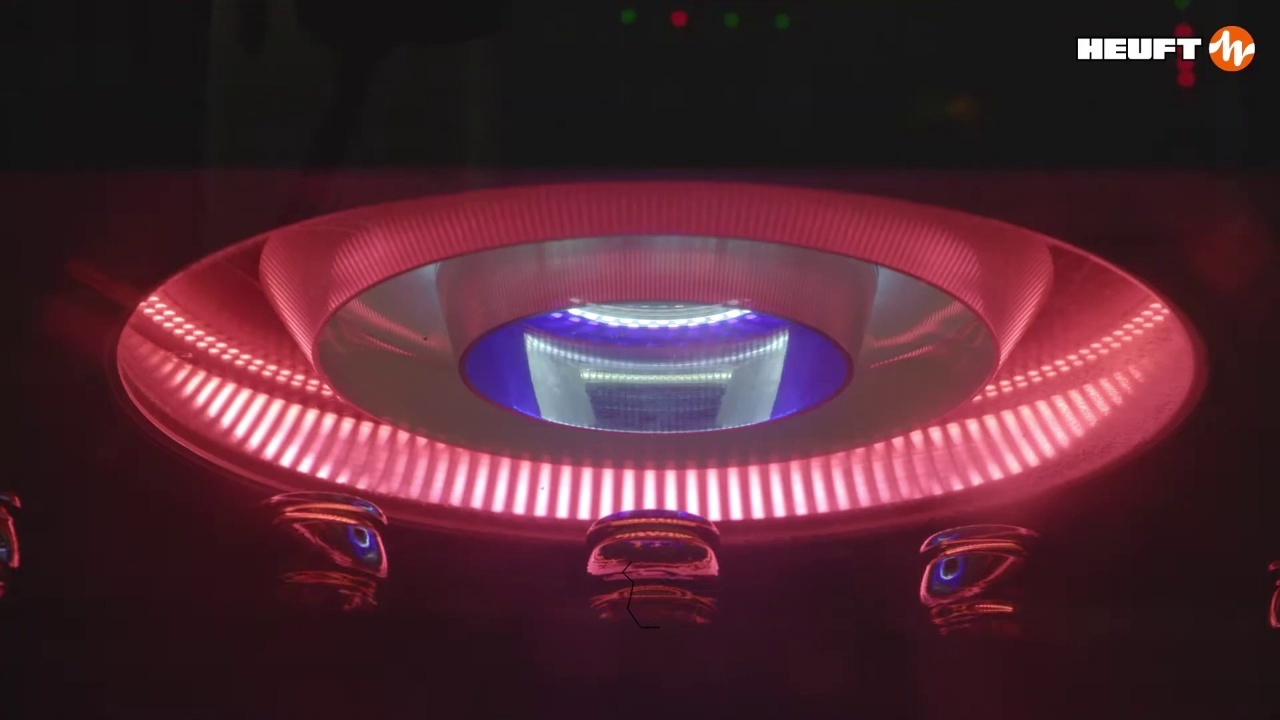bottle: (37, 66, 652, 594)
